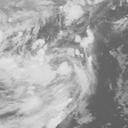cyclone: (24, 20, 95, 91)
